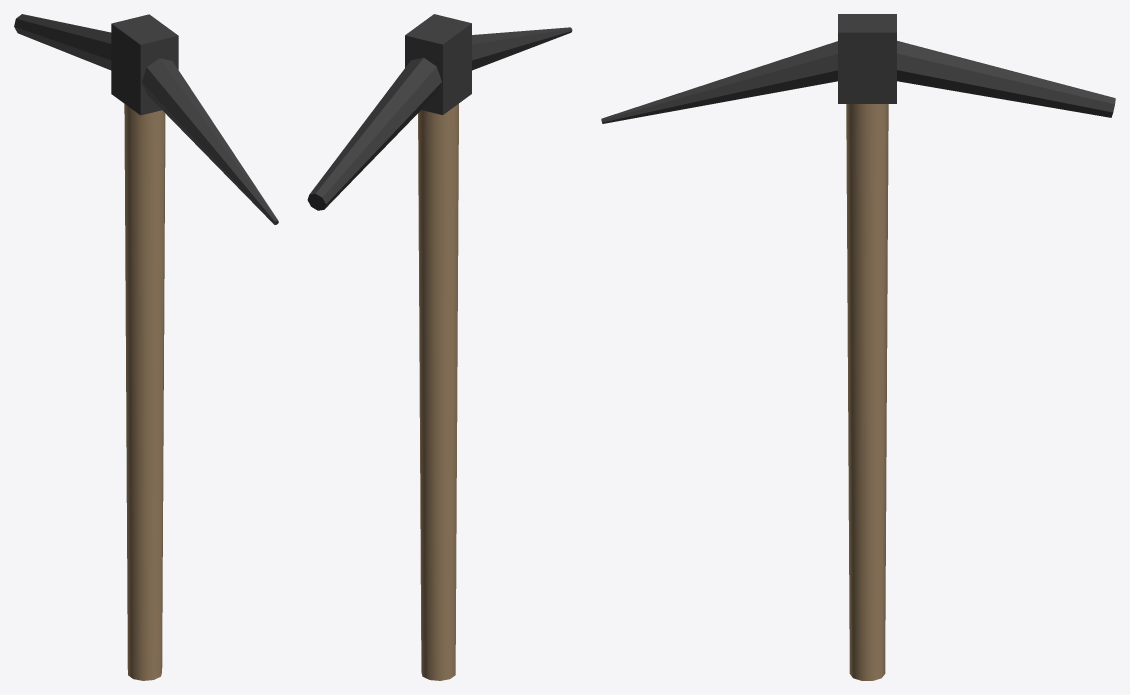
File: SM_Pickaxe.glb
3 views of the same model, side by side, from view 1: azimuth 30°, elevation 25°; view 2: azimuth 150°, elevation 25°; view 3: azimuth 270°, elevation 25° (orthographic).
Visible parts, largest first — view 1: SM_Pickaxe; view 2: SM_Pickaxe; view 3: SM_Pickaxe.
Boxes of the visible parts, x1=… form: SM_Pickaxe: x1=14, y1=14, x2=278, y2=680; SM_Pickaxe: x1=307, y1=14, x2=572, y2=680; SM_Pickaxe: x1=601, y1=14, x2=1115, y2=680.
Bounding box in the file's own units: 4.5 × 73 × 52.34.
